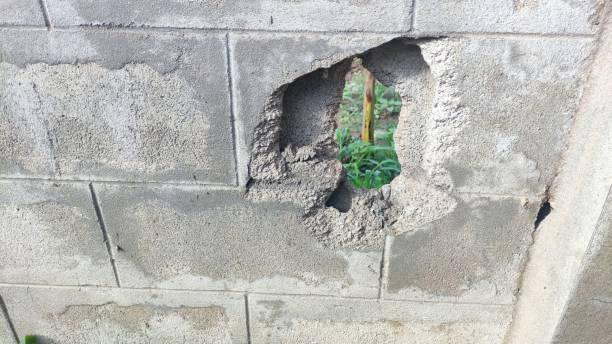Spalling: (243, 34, 459, 253), (1, 59, 210, 176), (124, 199, 344, 282), (41, 300, 234, 344), (279, 316, 511, 344), (1, 199, 82, 271), (533, 199, 551, 231)
